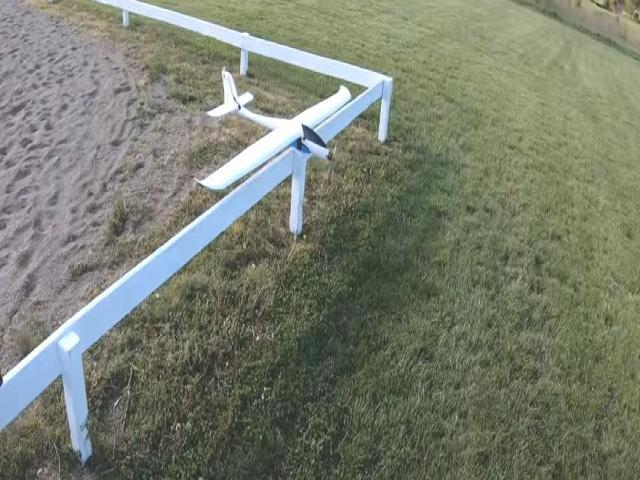iha: (192, 67, 354, 193)
